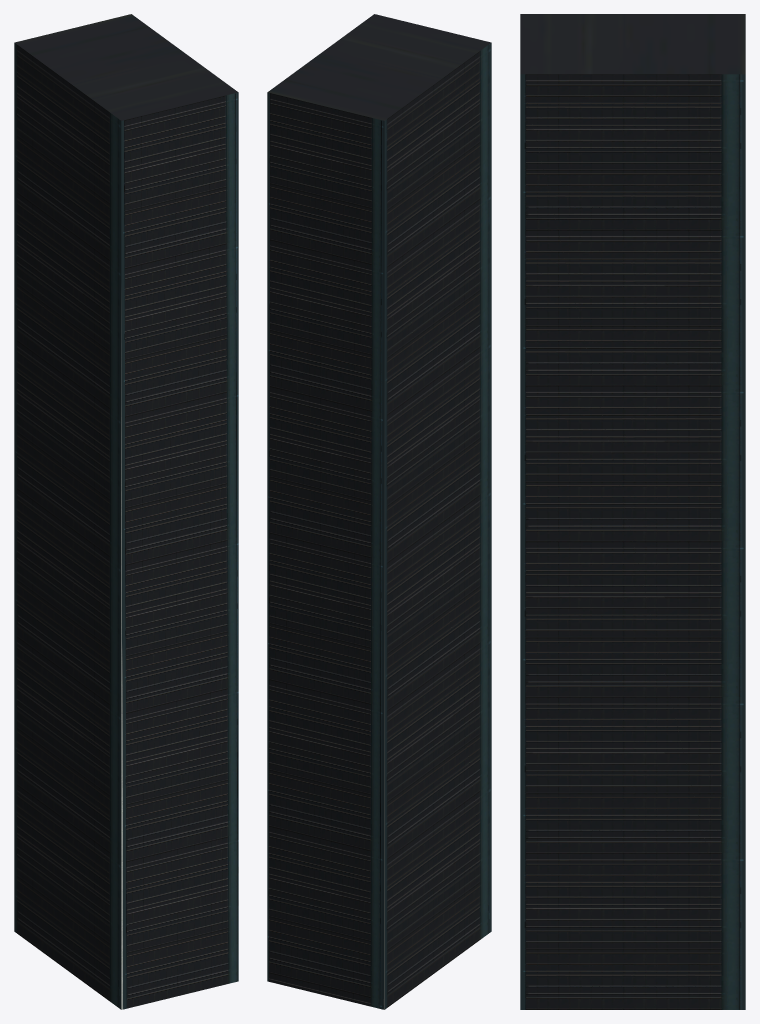
The model's file is 00_03_outside_building_d.dae.
3 renders of one model, left to right at view 1: azimuth 30°, elevation 25°; view 2: azimuth 150°, elevation 25°; view 3: azimuth 270°, elevation 25°, orthographic. The views are drawn at different scales.
Parts seen in each view (by area): view 1: Bd-Pivot; view 2: Bd-Pivot; view 3: Bd-Pivot.
Part boxes in pixels (bbox=[...]): Bd-Pivot: bbox=[14, 14, 238, 1009]; Bd-Pivot: bbox=[267, 14, 491, 1009]; Bd-Pivot: bbox=[520, 14, 745, 1009].
Size of the model in its own units: 30.83 by 224 by 48.81.
